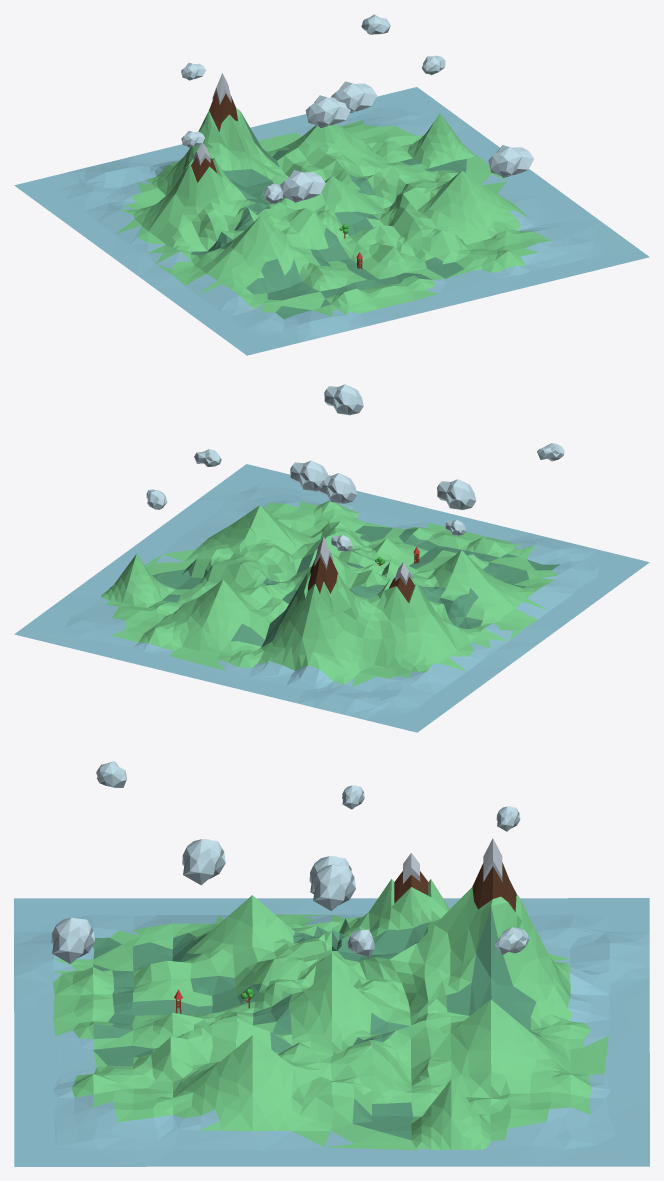
3 views of the same model, one above another, from view 1: azimuth 30°, elevation 25°; view 2: azimuth 150°, elevation 25°; view 3: azimuth 270°, elevation 25° (orthographic). The views are drawn at different scales.
Parts seen in each view (by area): view 1: 平面, 棱角球.007, 棱角球.005, 棱角球, 棱角球.009; view 2: 平面, 棱角球.007, 棱角球.005, 棱角球.009, 棱角球; view 3: 平面, 棱角球.007, 棱角球.009, 棱角球.005, 棱角球.006, 棱角球.008.
Boxes of the visible parts, x1,y1,x2,y2 form: 平面: (14, 73, 649, 355); 棱角球.007: (488, 145, 533, 177); 棱角球.005: (280, 170, 325, 202); 棱角球: (305, 95, 350, 127); 棱角球.009: (331, 81, 376, 112); 平面: (14, 464, 649, 732); 棱角球.007: (324, 384, 363, 415); 棱角球.005: (437, 479, 476, 510); 棱角球.009: (290, 460, 328, 491); 棱角球: (319, 473, 357, 503); 平面: (14, 838, 649, 1166); 棱角球.007: (51, 917, 94, 963); 棱角球.009: (312, 864, 355, 910); 棱角球.005: (182, 839, 225, 885); 棱角球.006: (495, 927, 529, 954); 棱角球.008: (96, 761, 126, 787).
Bounding box in the file's own units: 1924 × 606 × 1924.
